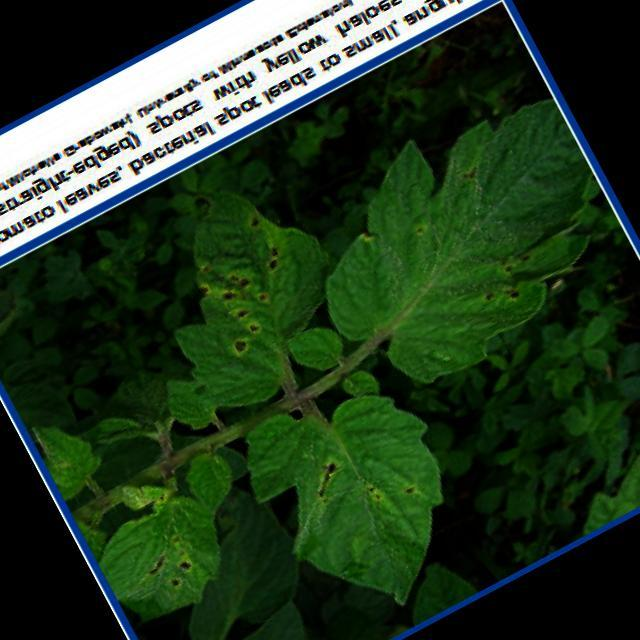Tomato bacterial spot leaf: (280, 72, 640, 420), (222, 338, 511, 638), (112, 162, 374, 434), (79, 464, 255, 636)
